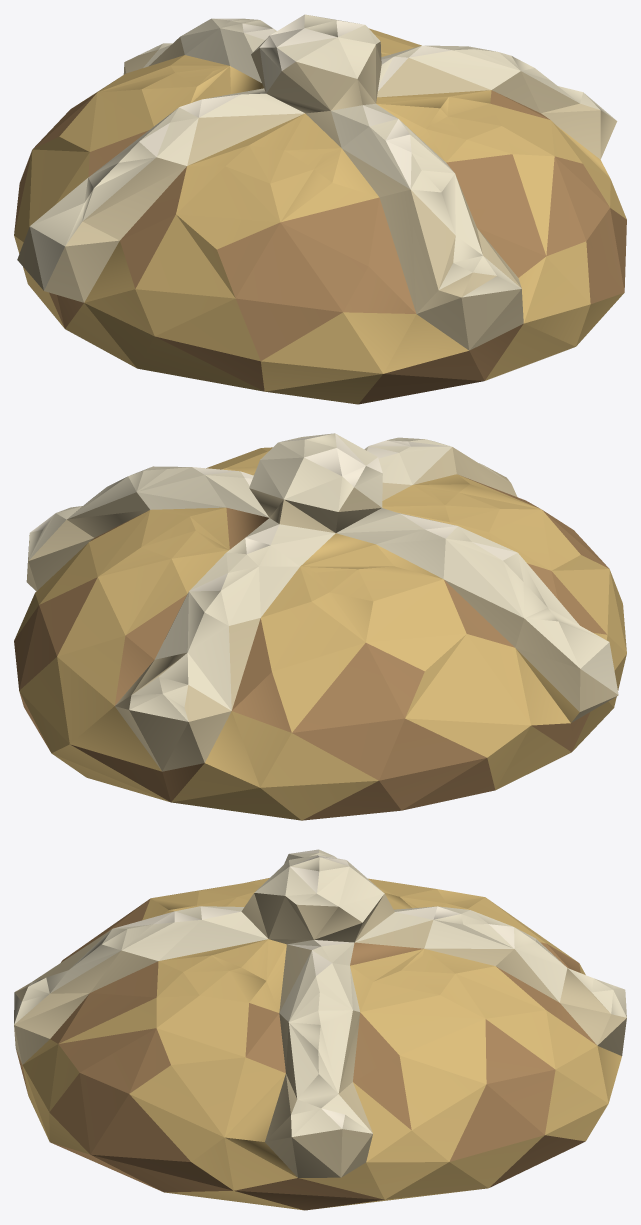
Rendered from pan_de_muerto.glb.
3 views of the same model, one above another, from view 1: azimuth 30°, elevation 25°; view 2: azimuth 150°, elevation 25°; view 3: azimuth 270°, elevation 25° (orthographic). The views are drawn at different scales.
Parts seen in each view (by area): view 1: Mesh_0; view 2: Mesh_0; view 3: Mesh_0.
Part boxes in pixels (x1,y1,x2,y2): Mesh_0: (14,14,626,404); Mesh_0: (14,433,626,820); Mesh_0: (14,849,626,1210).
Size of the model in its own units: 0.22 by 0.1 by 0.22.
